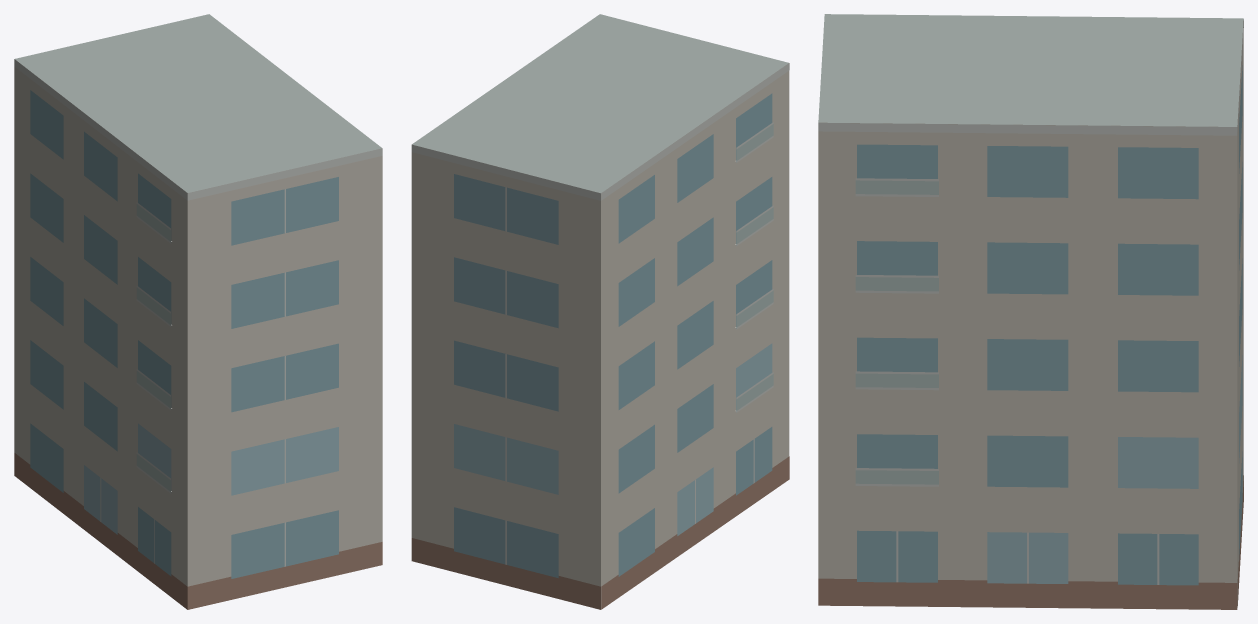
File: survey-upis-32982697.glb
The picture shows the model from 3 angles, left to right: view 1: azimuth 30°, elevation 25°; view 2: azimuth 150°, elevation 25°; view 3: azimuth 270°, elevation 25°; orthographic projection. The views are drawn at different scales.
Visible parts, largest first — view 1: survey-upis-32982697.tmp; view 2: survey-upis-32982697.tmp; view 3: survey-upis-32982697.tmp.
Part boxes in pixels (x1,y1,x2,y2): survey-upis-32982697.tmp: (14,14,382,609); survey-upis-32982697.tmp: (411,14,789,609); survey-upis-32982697.tmp: (818,14,1243,609).
Size of the model in its own units: 6.77 by 13.45 by 10.75.
